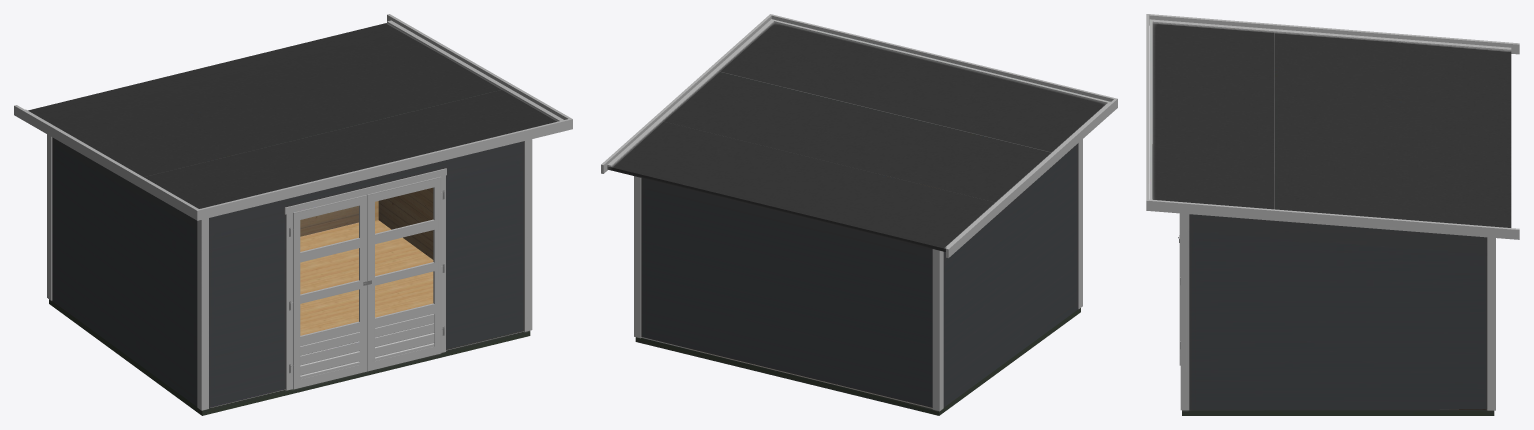
File: mcc.gltf
The picture shows the model from 3 angles, left to right: view 1: azimuth 30°, elevation 25°; view 2: azimuth 150°, elevation 25°; view 3: azimuth 270°, elevation 25°; orthographic projection. The views are drawn at different scales.
Visible parts, largest first — view 1: OuterCabin_Low, WoodPiece_Low; view 2: OuterCabin_Low, WoodPiece_Low; view 3: OuterCabin_Low, WoodPiece_Low.
Boxes of the visible parts, <box> form: OuterCabin_Low: <box>14,14,572,415</box>; WoodPiece_Low: <box>52,137,523,407</box>; OuterCabin_Low: <box>601,14,1117,415</box>; WoodPiece_Low: <box>641,143,1077,407</box>; OuterCabin_Low: <box>1146,14,1519,415</box>; WoodPiece_Low: <box>1189,214,1487,410</box>.
Size of the model in its own units: 3.47 by 1.97 by 2.93.
Materials: 2 (2 with a texture image).
